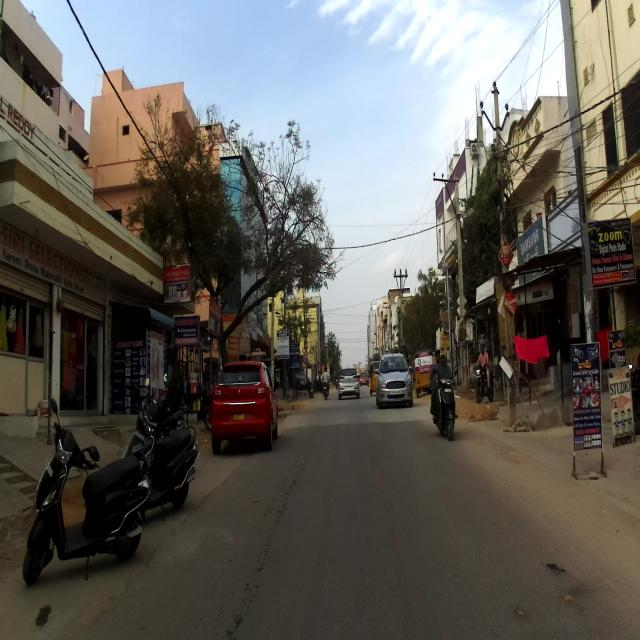car ahead at: (206, 348, 282, 455)
motorcycle ahead at: (18, 403, 146, 588), (132, 360, 200, 506)
